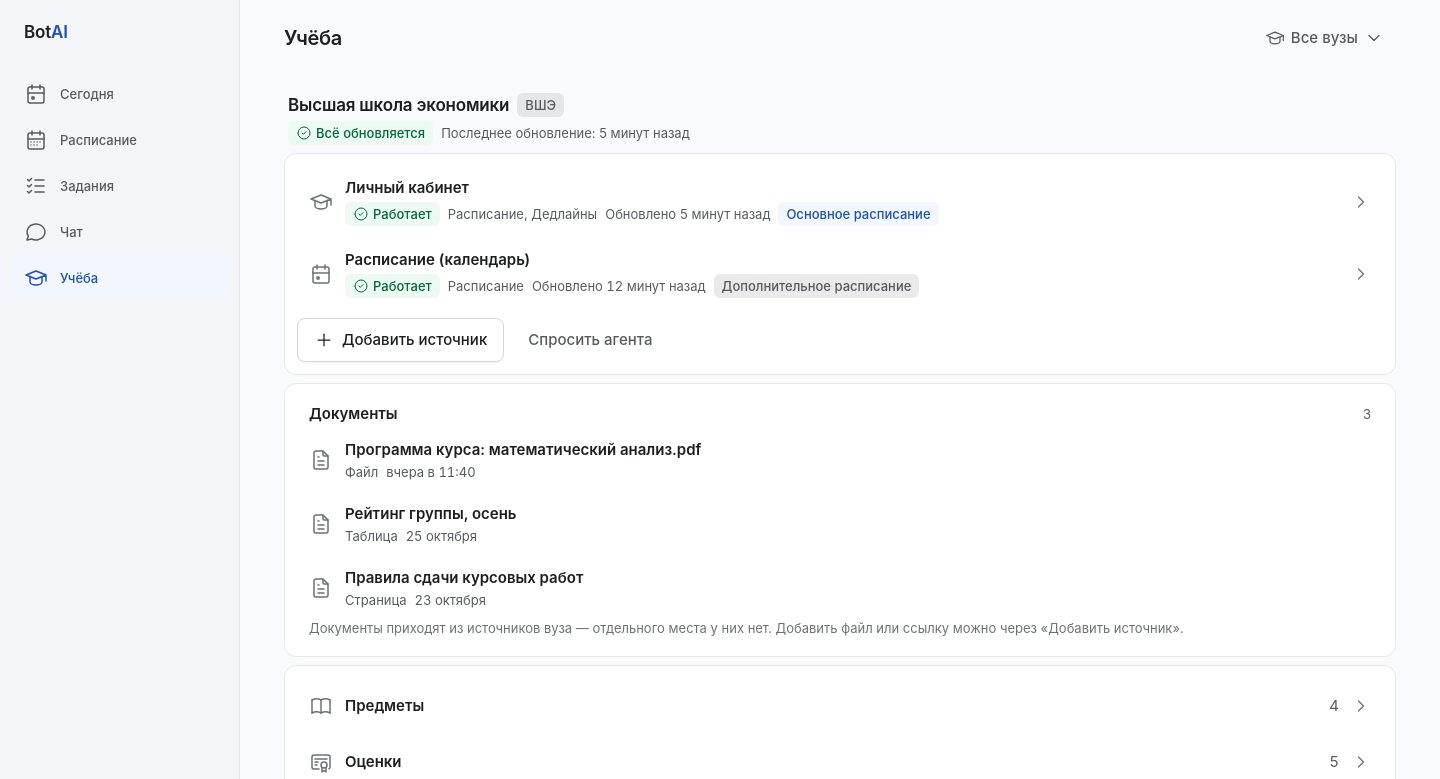
Test: карточка источника › сервер отказал в действии: человеческий тост, а статус не выдаёт успех
Click the button with aria-label "Личный кабинет:" at (840,202), box x1=297 y1=166 x2=1383 y2=238
(page scrolled)
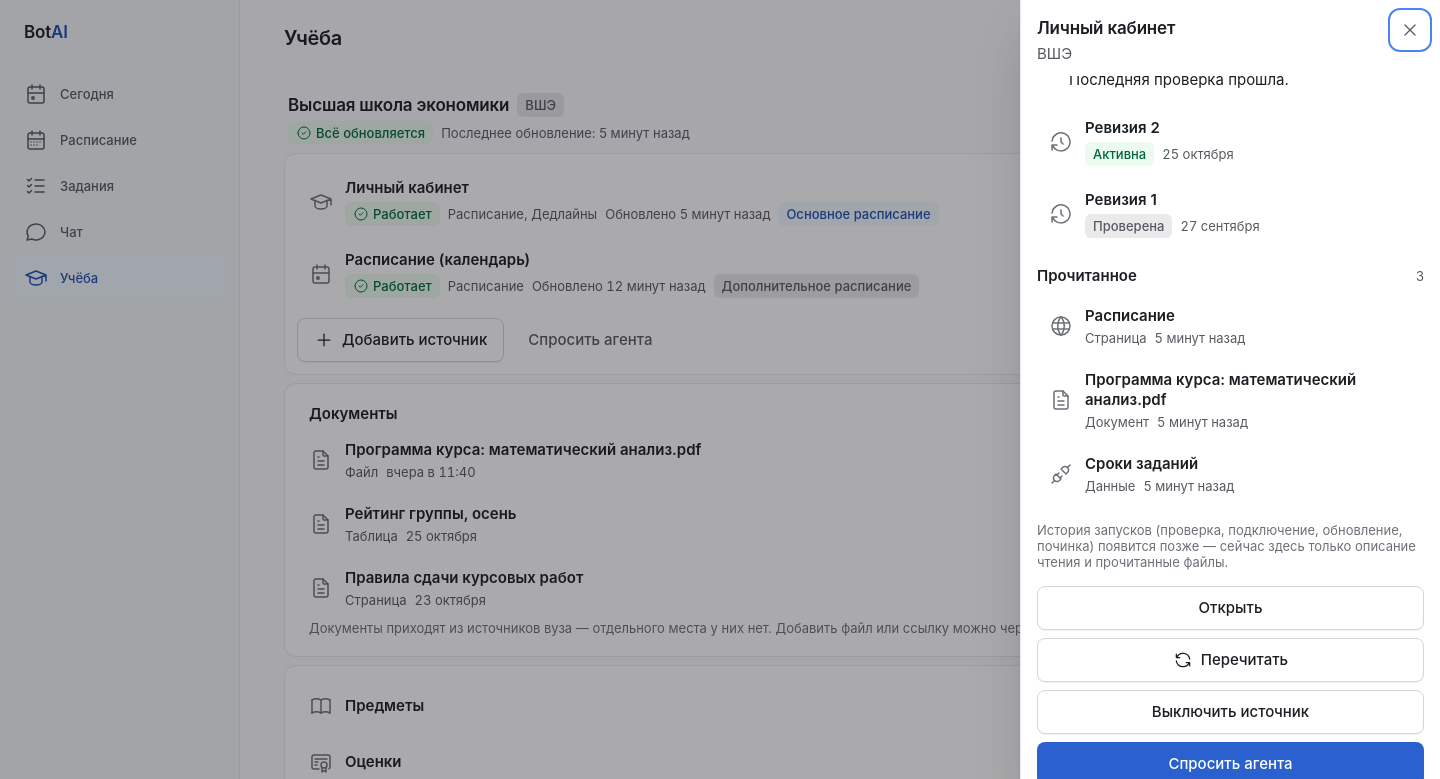
Click the button "Выключить источник" at (1230,712), box x1=1037 y1=690 x2=1424 y2=734
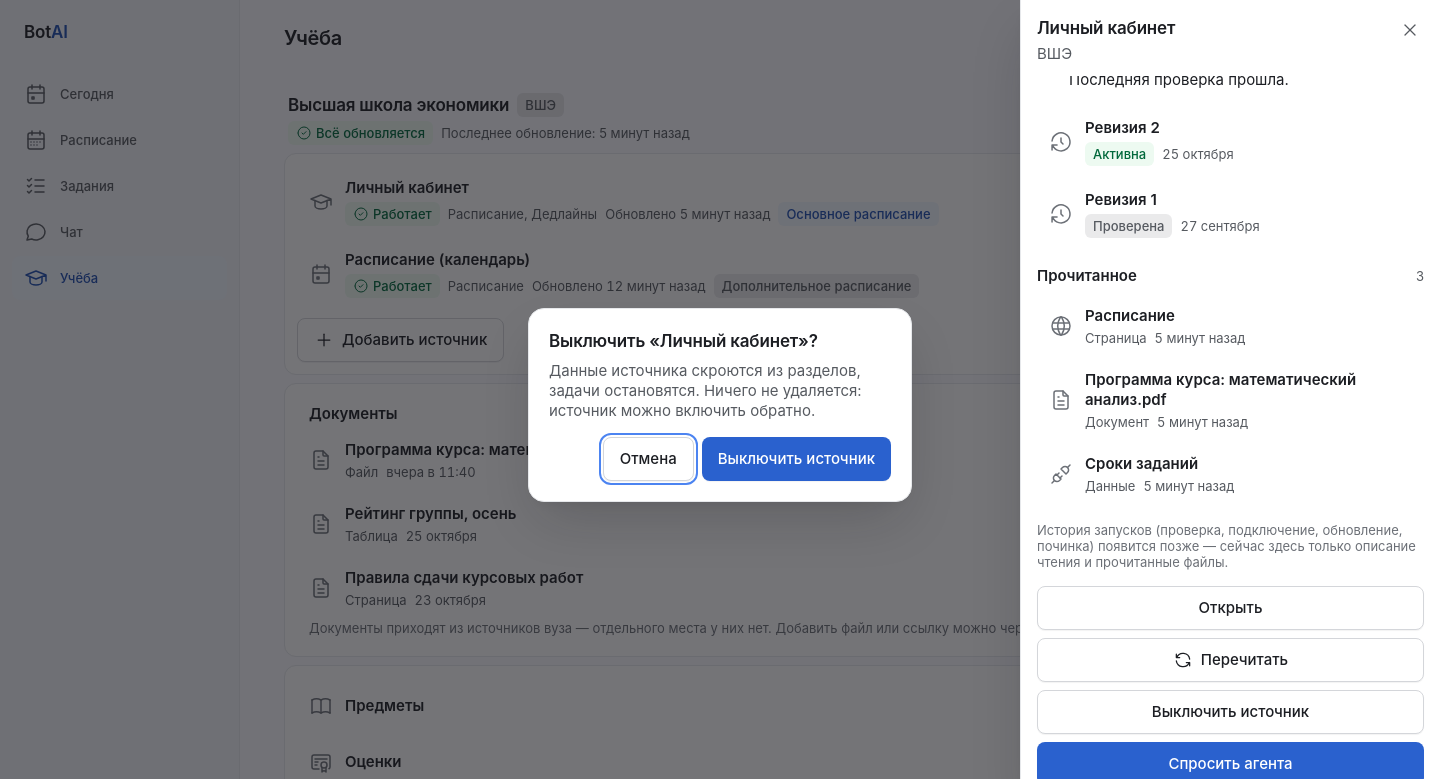
Click the button "Выключить источник" at (796,459), box x1=702 y1=437 x2=891 y2=481
(page scrolled)
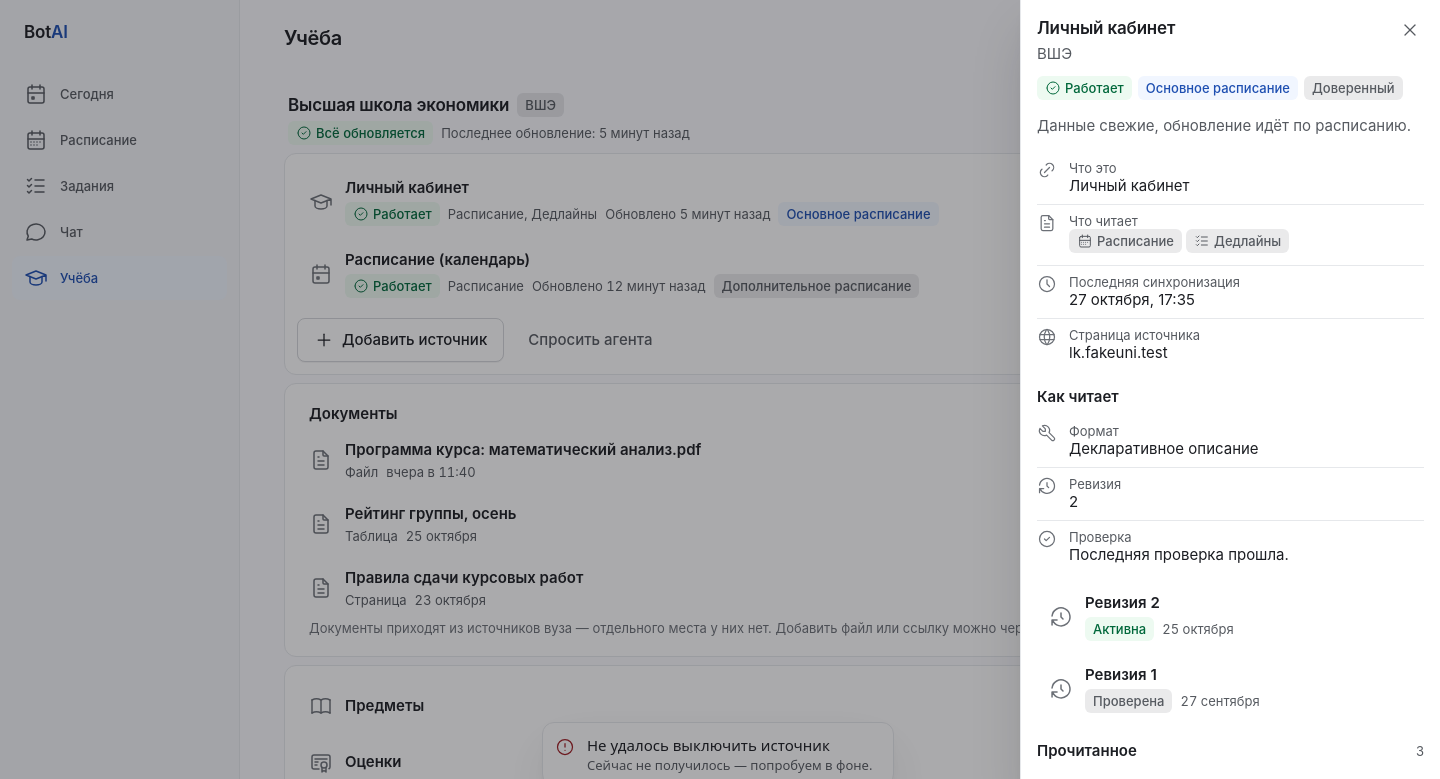
Result: the text "Не удалось выключить источник" is shown at x1=587 y1=735 x2=830 y2=755
Result: the text "Сейчас не получилось — попробуем в фоне." is shown at x1=587 y1=757 x2=881 y2=773
Result: the text "Работает" is shown at x1=1037 y1=76 x2=1132 y2=100
